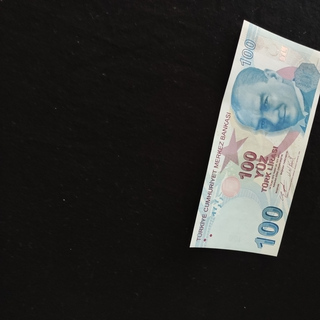100TLFront: (188, 19, 320, 258)
